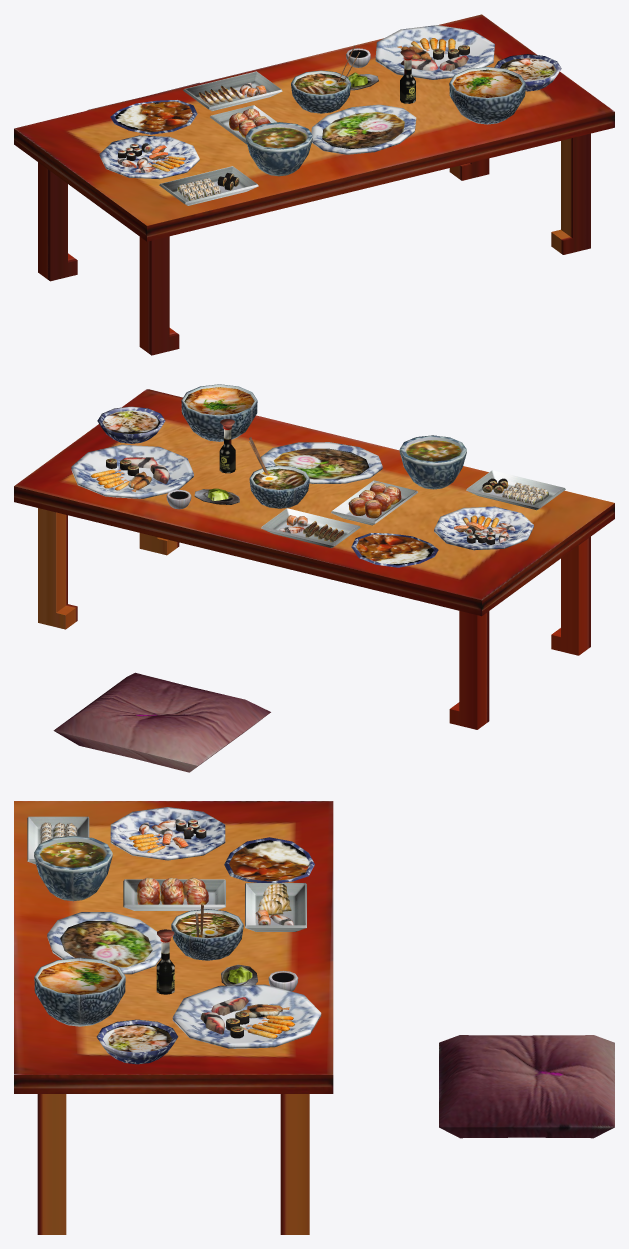
The model's file is chobudai_table.FBX.
3 views of the same model, one above another, from view 1: azimuth 30°, elevation 25°; view 2: azimuth 150°, elevation 25°; view 3: azimuth 270°, elevation 25° (orthographic). The views are drawn at different scales.
Parts seen in each view (by area): view 1: chobudai_table; view 2: chobudai_table, zabuton_cushion; view 3: chobudai_table, zabuton_cushion.
Boxes of the visible parts, <box> form: chobudai_table: <box>14,14,614,355</box>; chobudai_table: <box>14,384,614,729</box>; zabuton_cushion: <box>53,672,270,772</box>; chobudai_table: <box>14,801,333,1234</box>; zabuton_cushion: <box>439,1035,614,1138</box>.
Bounding box in the file's own units: 105 × 41.43 × 96.9.
